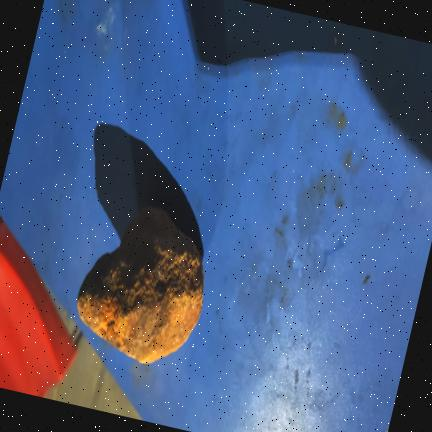Rocks: (77, 206, 203, 362)
